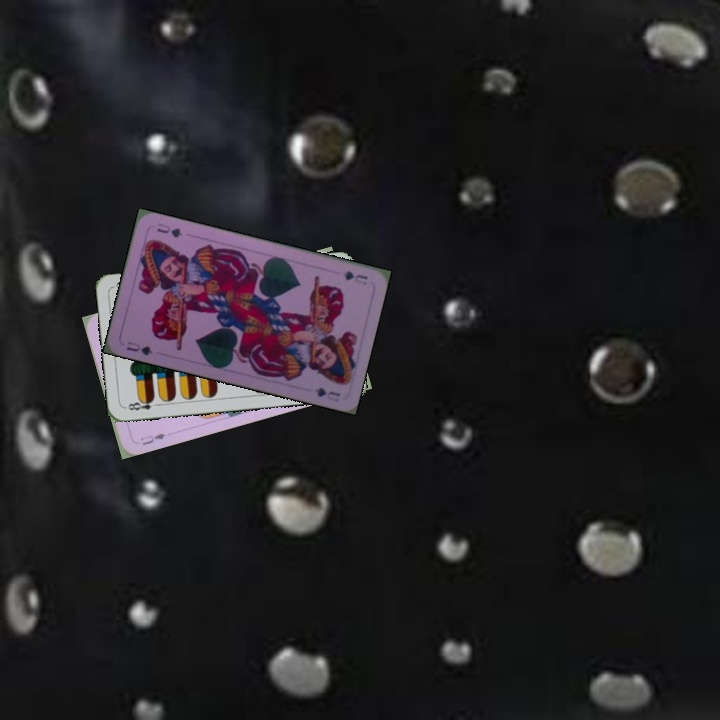E8: (122, 394, 162, 413)
EU: (137, 429, 168, 448)
GU: (122, 337, 155, 358), (339, 267, 370, 287)
